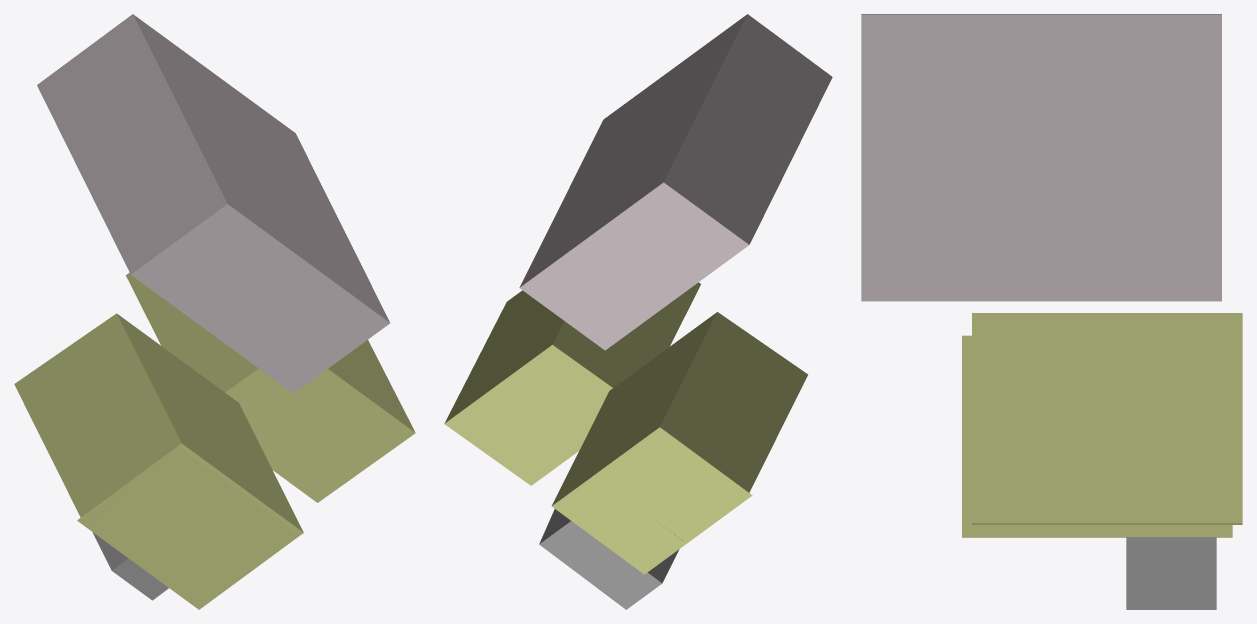
The picture shows the model from 3 angles, left to right: view 1: azimuth 30°, elevation 25°; view 2: azimuth 150°, elevation 25°; view 3: azimuth 270°, elevation 25°; orthographic projection. The views are drawn at different scales.
Visible parts, largest first — view 1: 0_2_2_0_0_0_1_3_3_3; view 2: 0_2_2_0_0_0_1_3_3_3; view 3: 0_2_2_0_0_0_1_3_3_3.
Part boxes in pixels (x1,y1,x2,y2): 0_2_2_0_0_0_1_3_3_3: (14,14,415,609); 0_2_2_0_0_0_1_3_3_3: (444,14,832,609); 0_2_2_0_0_0_1_3_3_3: (861,14,1242,609).
Size of the model in its own units: 12.09 by 22.33 by 12.69.
